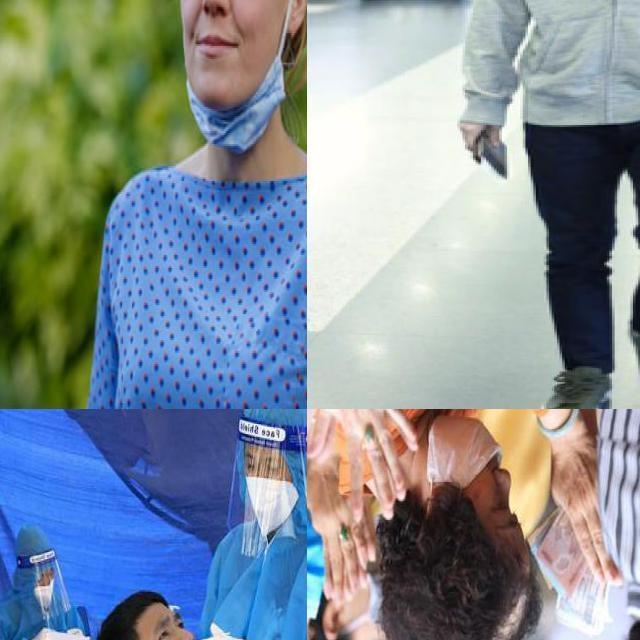hairnet: (181, 36, 283, 151), (430, 416, 511, 510)
